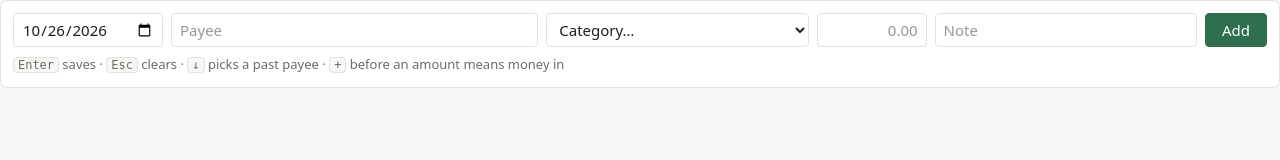
Test case: EntryRow › keeps the values and shows the server error when saving fails
Select "Groceries" in the dropdown named "Category" at (677, 30), box [546,13,809,47]
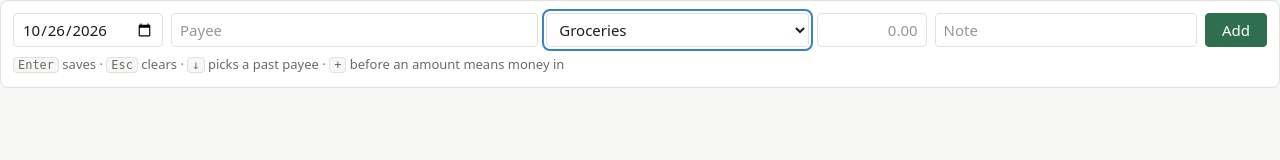
Type "9.99" into the field named "Amount" at (872, 30), box [817,13,927,47]
Then press Enter
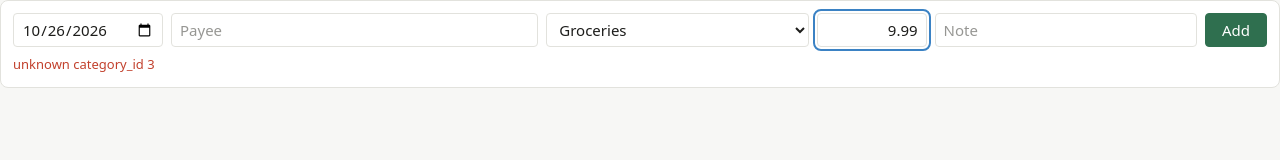
Check: the message reads "unknown category_id 3", box [13,55,155,73]
